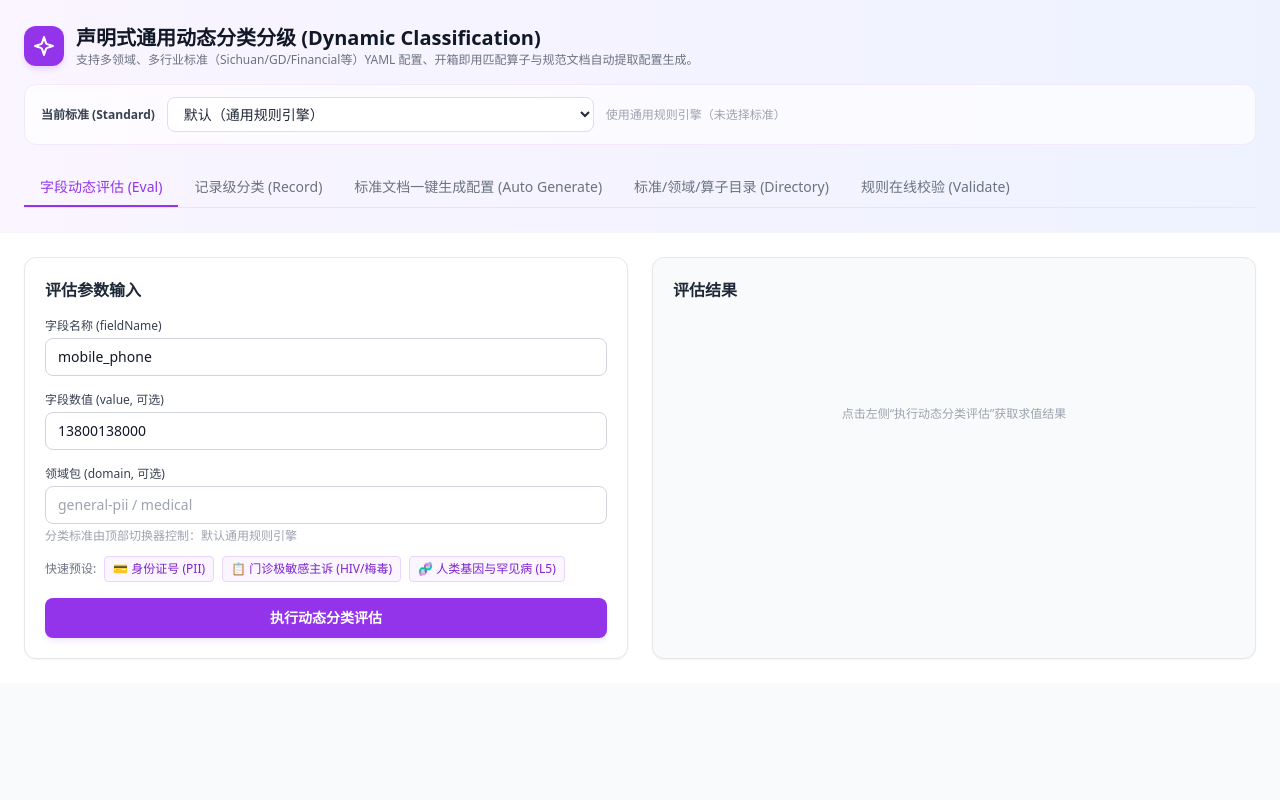
Test: DynClassificationPanel 全局标准切换器 › 切换到广东标准后展示 G1~G4 等级体系与默认等级
Select "gd_health — 广东省健康医疗数据安全分类分级管理技术规范" in the dropdown named "当前标准 (Standard)". click: (380, 114)
box: [167,97,594,132]
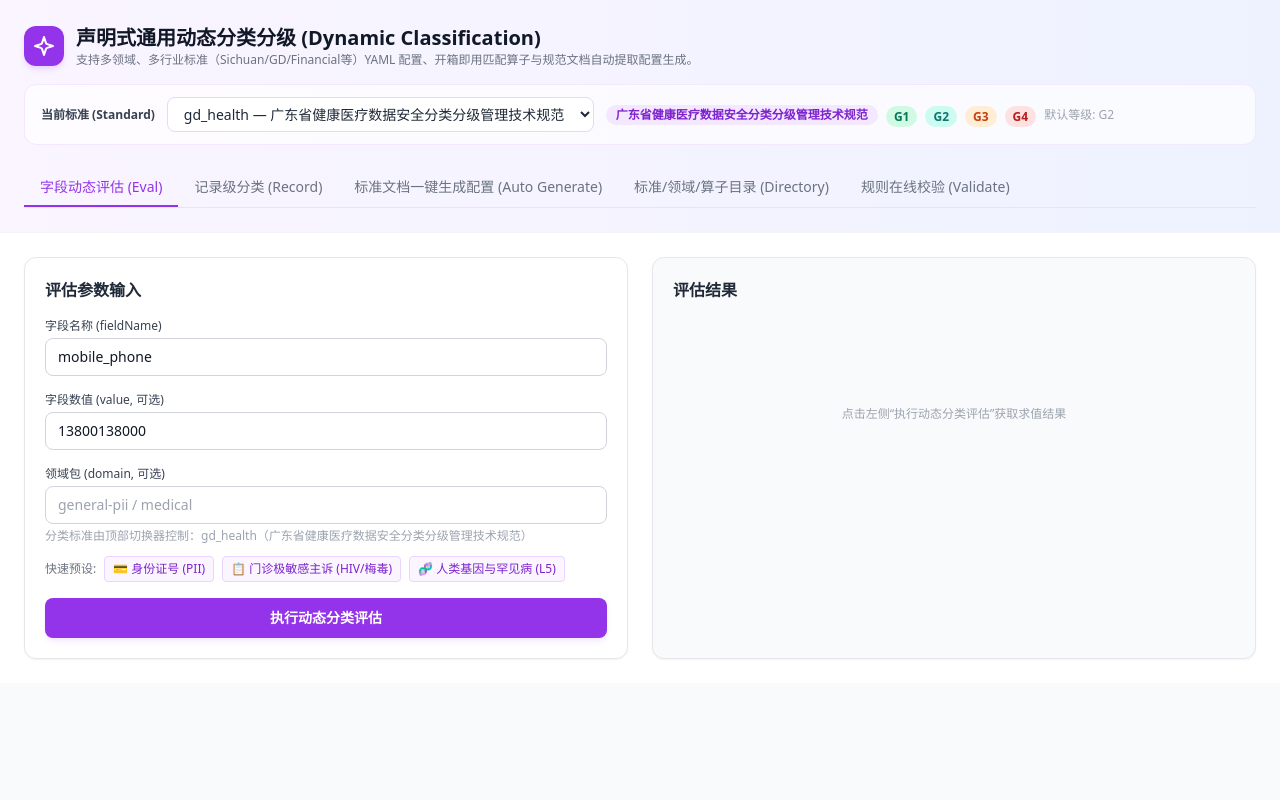
Check: the text "广东省健康医疗数据安全分类分级管理技术规范" is shown, box [606,104,878,124]
Check: the text "G1" is shown, box [886,106,918,126]
Check: the text "G2" is shown, box [925,106,957,126]
